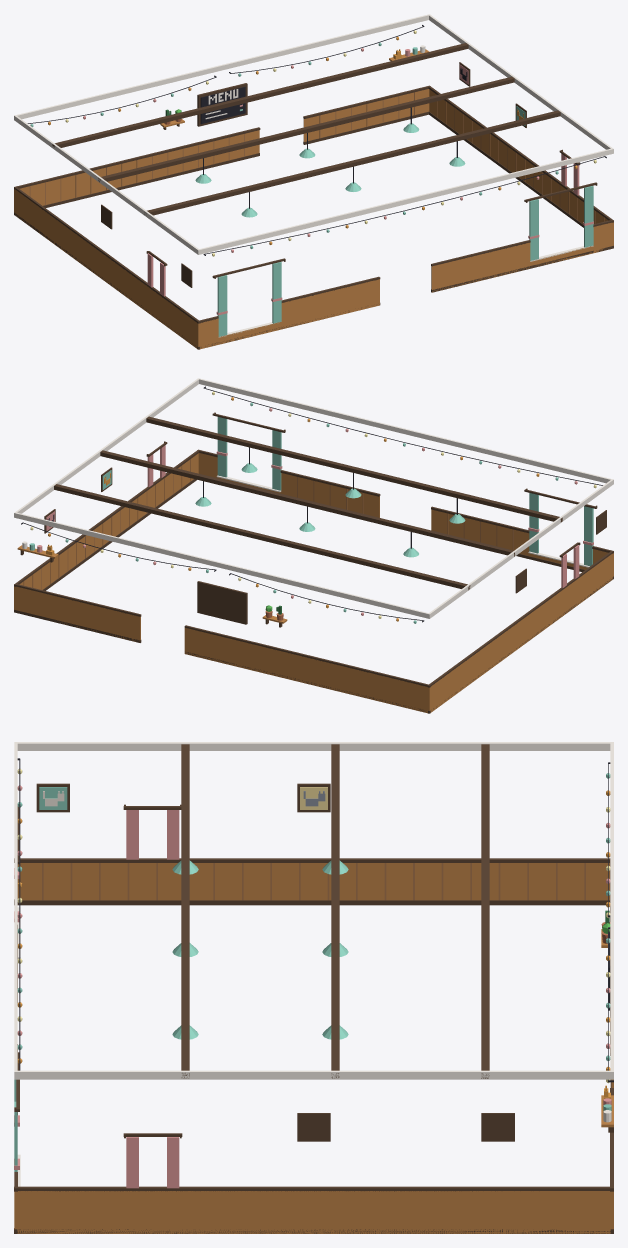
The model's file is CatCafe_Plot_Interior_56x43.glb.
The picture shows the model from 3 angles, top to bottom: view 1: azimuth 30°, elevation 25°; view 2: azimuth 150°, elevation 25°; view 3: azimuth 270°, elevation 25°; orthographic projection. The views are drawn at different scales.
Visible parts, largest first — view 1: CatCafe_Plot_Interior_56x43, CatCafe_Plot_Interior_56x43_StringLights_Bulbs; view 2: CatCafe_Plot_Interior_56x43, CatCafe_Plot_Interior_56x43_StringLights_Bulbs; view 3: CatCafe_Plot_Interior_56x43, CatCafe_Plot_Interior_56x43_StringLights_Bulbs.
Part boxes in pixels (x1,y1,x2,y2): CatCafe_Plot_Interior_56x43: [14, 14, 613, 349]; CatCafe_Plot_Interior_56x43_StringLights_Bulbs: [30, 30, 596, 256]; CatCafe_Plot_Interior_56x43: [14, 378, 613, 713]; CatCafe_Plot_Interior_56x43_StringLights_Bulbs: [30, 391, 596, 623]; CatCafe_Plot_Interior_56x43: [14, 742, 613, 1233]; CatCafe_Plot_Interior_56x43_StringLights_Bulbs: [17, 769, 610, 1083].
Bounding box in the file's own units: 56.02 × 12.8 × 43.03.
1 material, 1 textured.
